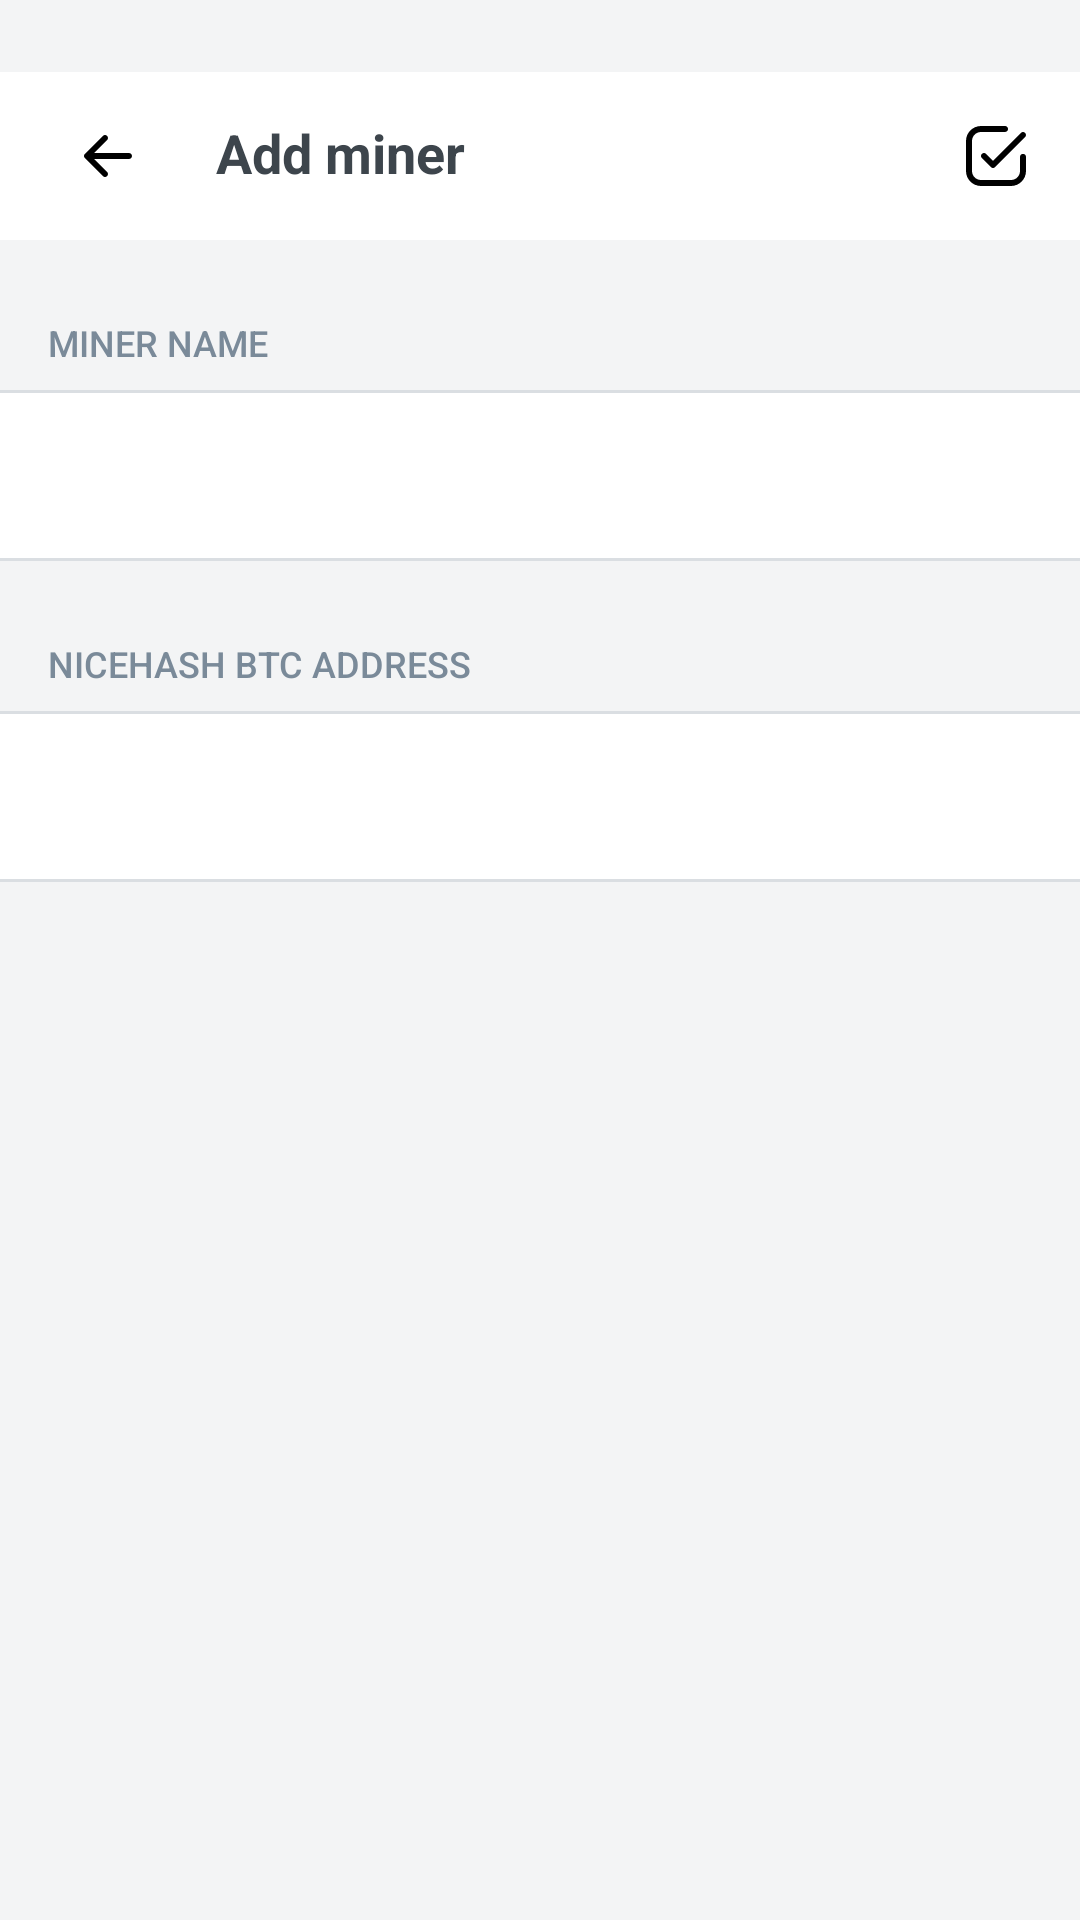

Icon click points for this 1080px×1920px phone screenshot, format (x,y):
control save: (996,156)
is control back: (108,156)
